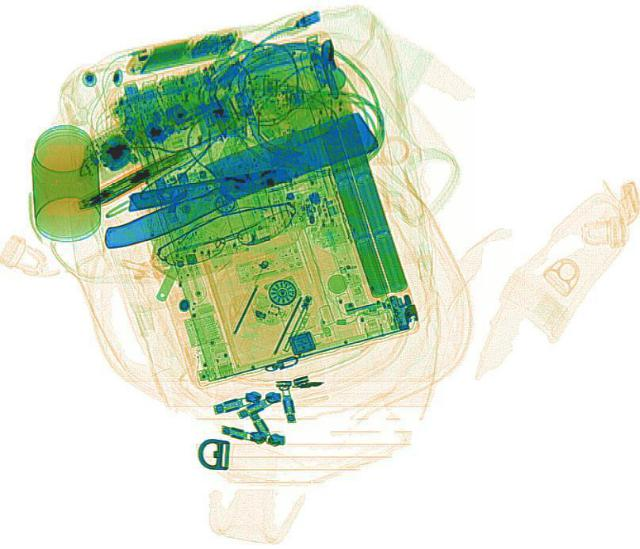Knife: (84, 106, 382, 251)
